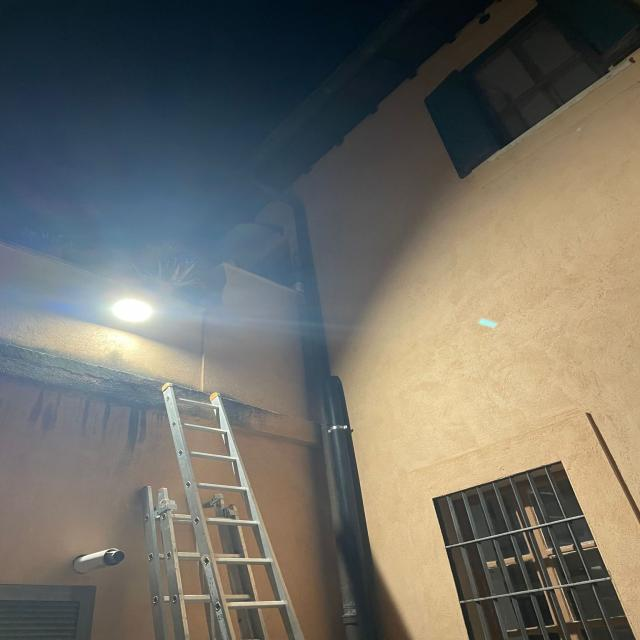lampione: (100, 286, 168, 335)
